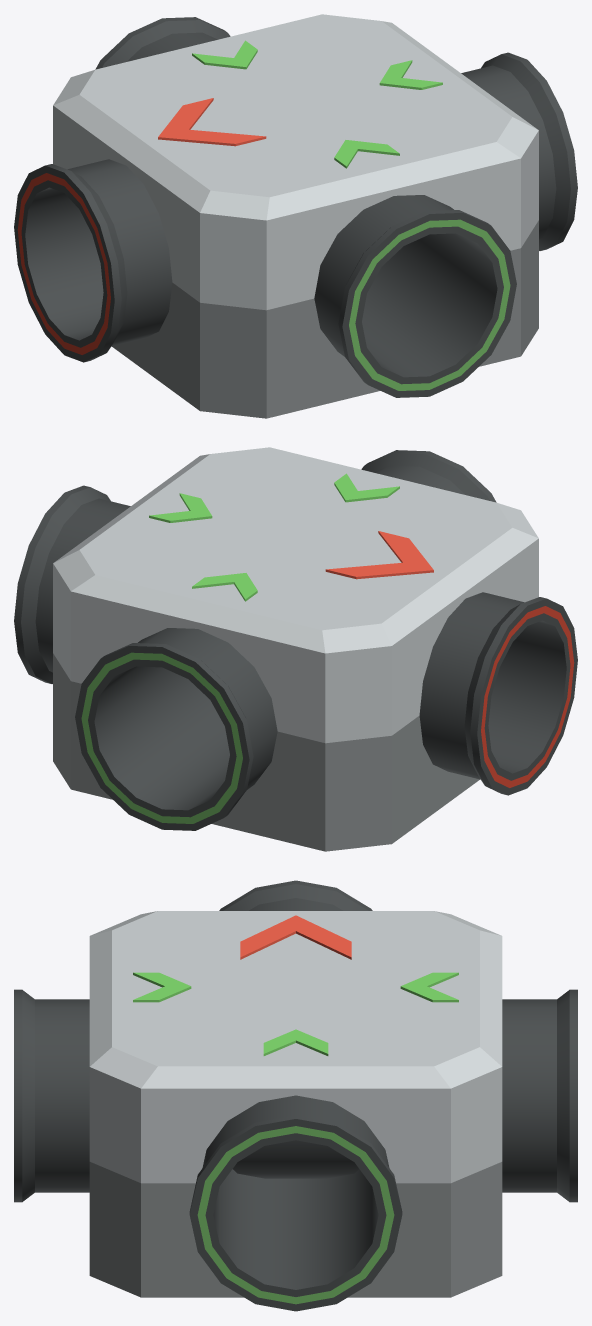
File: m_Dev_Merger.fbx
The picture shows the model from 3 angles, top to bottom: view 1: azimuth 30°, elevation 25°; view 2: azimuth 150°, elevation 25°; view 3: azimuth 270°, elevation 25°; orthographic projection. The views are drawn at different scales.
Visible parts, largest first — view 1: Merger.001; view 2: Merger.001; view 3: Merger.001.
Boxes of the visible parts, bbox=[...] form: Merger.001: bbox=[14, 14, 577, 418]; Merger.001: bbox=[14, 447, 577, 851]; Merger.001: bbox=[14, 880, 577, 1311].
Size of the model in its own units: 100 by 43.85 by 100.
